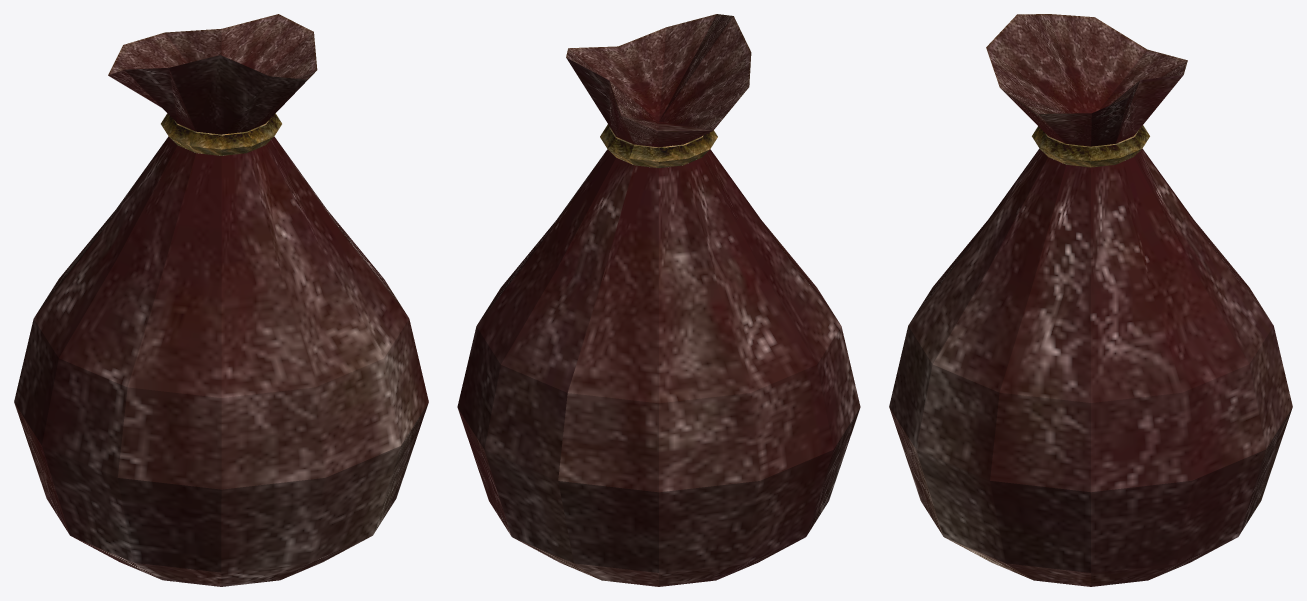
The model's file is GS_MIX_RED_01_SZCZAWIK.glb.
3 views of the same model, side by side, from view 1: azimuth 30°, elevation 25°; view 2: azimuth 150°, elevation 25°; view 3: azimuth 270°, elevation 25° (orthographic). The views are drawn at different scales.
Parts seen in each view (by area): view 1: GS_MIX_RED_01_SZCZAWIK; view 2: GS_MIX_RED_01_SZCZAWIK; view 3: GS_MIX_RED_01_SZCZAWIK.
Part boxes in pixels (bbox=[...]): GS_MIX_RED_01_SZCZAWIK: bbox=[14, 14, 428, 586]; GS_MIX_RED_01_SZCZAWIK: bbox=[457, 14, 860, 586]; GS_MIX_RED_01_SZCZAWIK: bbox=[889, 14, 1292, 586].
Size of the model in its own units: 0.2801 by 0.3871 by 0.2801.
Materials: 2 (2 with a texture image).
